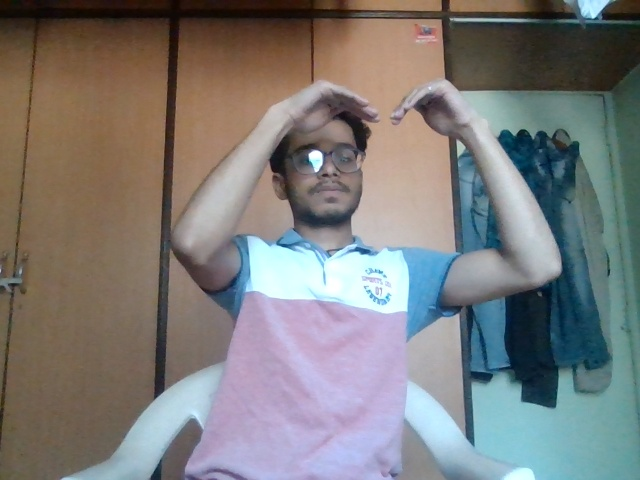we: (230, 65, 507, 196)
